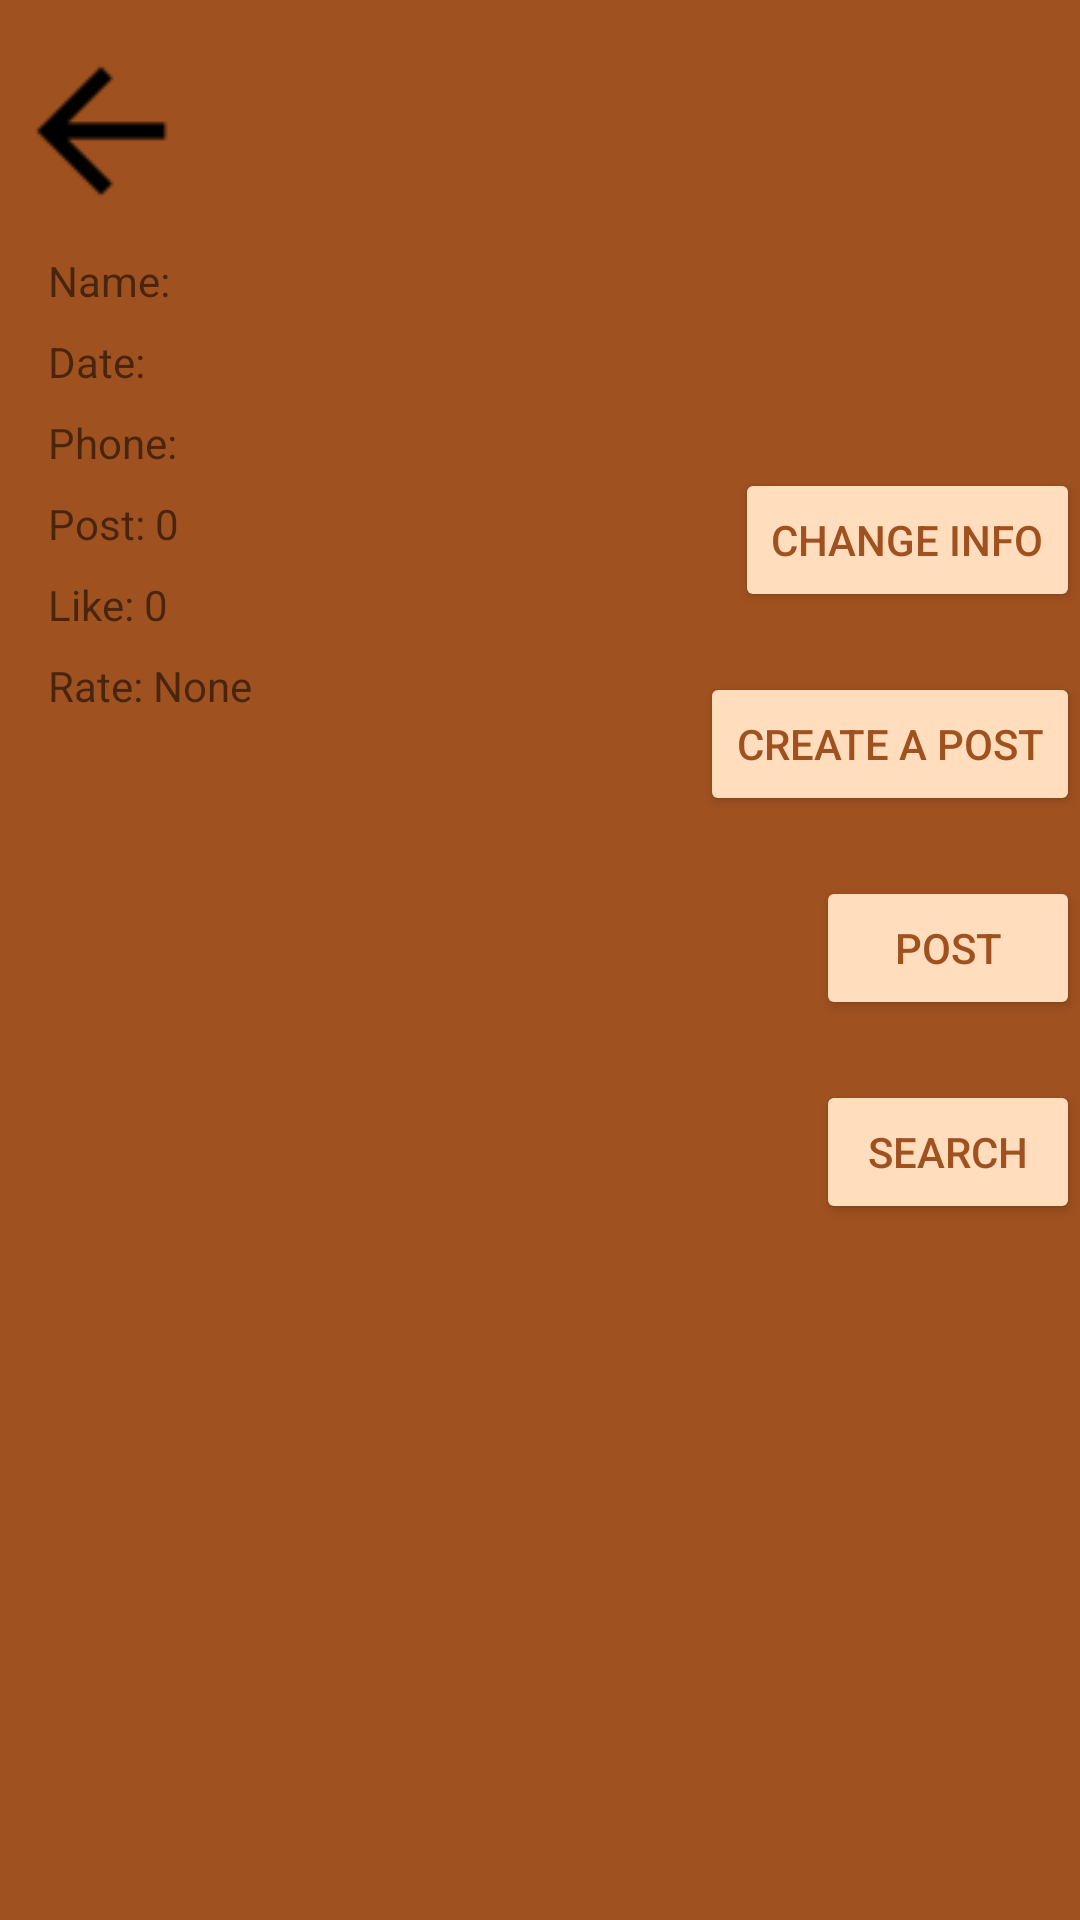

Icons on this 1080w x 1920h Android screen, each with its box as [x1, y1, x2, y2]:
back: [37, 67, 167, 195]
